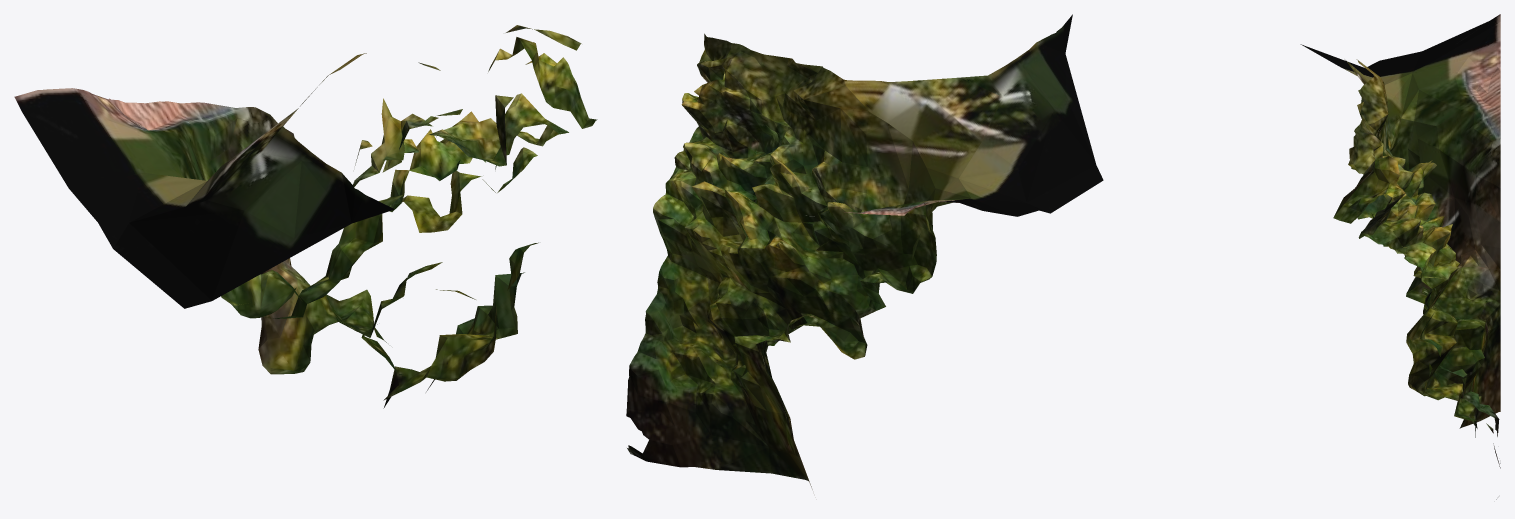
3 renders of one model, left to right at view 1: azimuth 30°, elevation 25°; view 2: azimuth 150°, elevation 25°; view 3: azimuth 270°, elevation 25°, orthographic. The views are drawn at different scales.
Size of the model in its own units: 6.7 by 6.7 by 6.28.
Materials: 3 (3 with a texture image).
